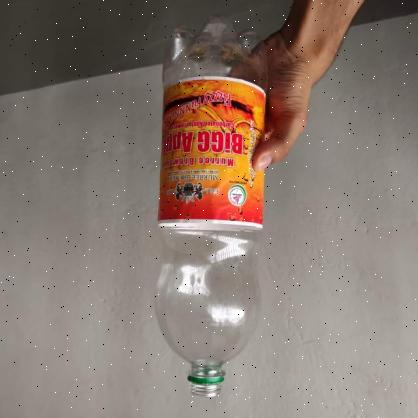bottle: (153, 14, 262, 400)
label: (153, 78, 262, 228)
